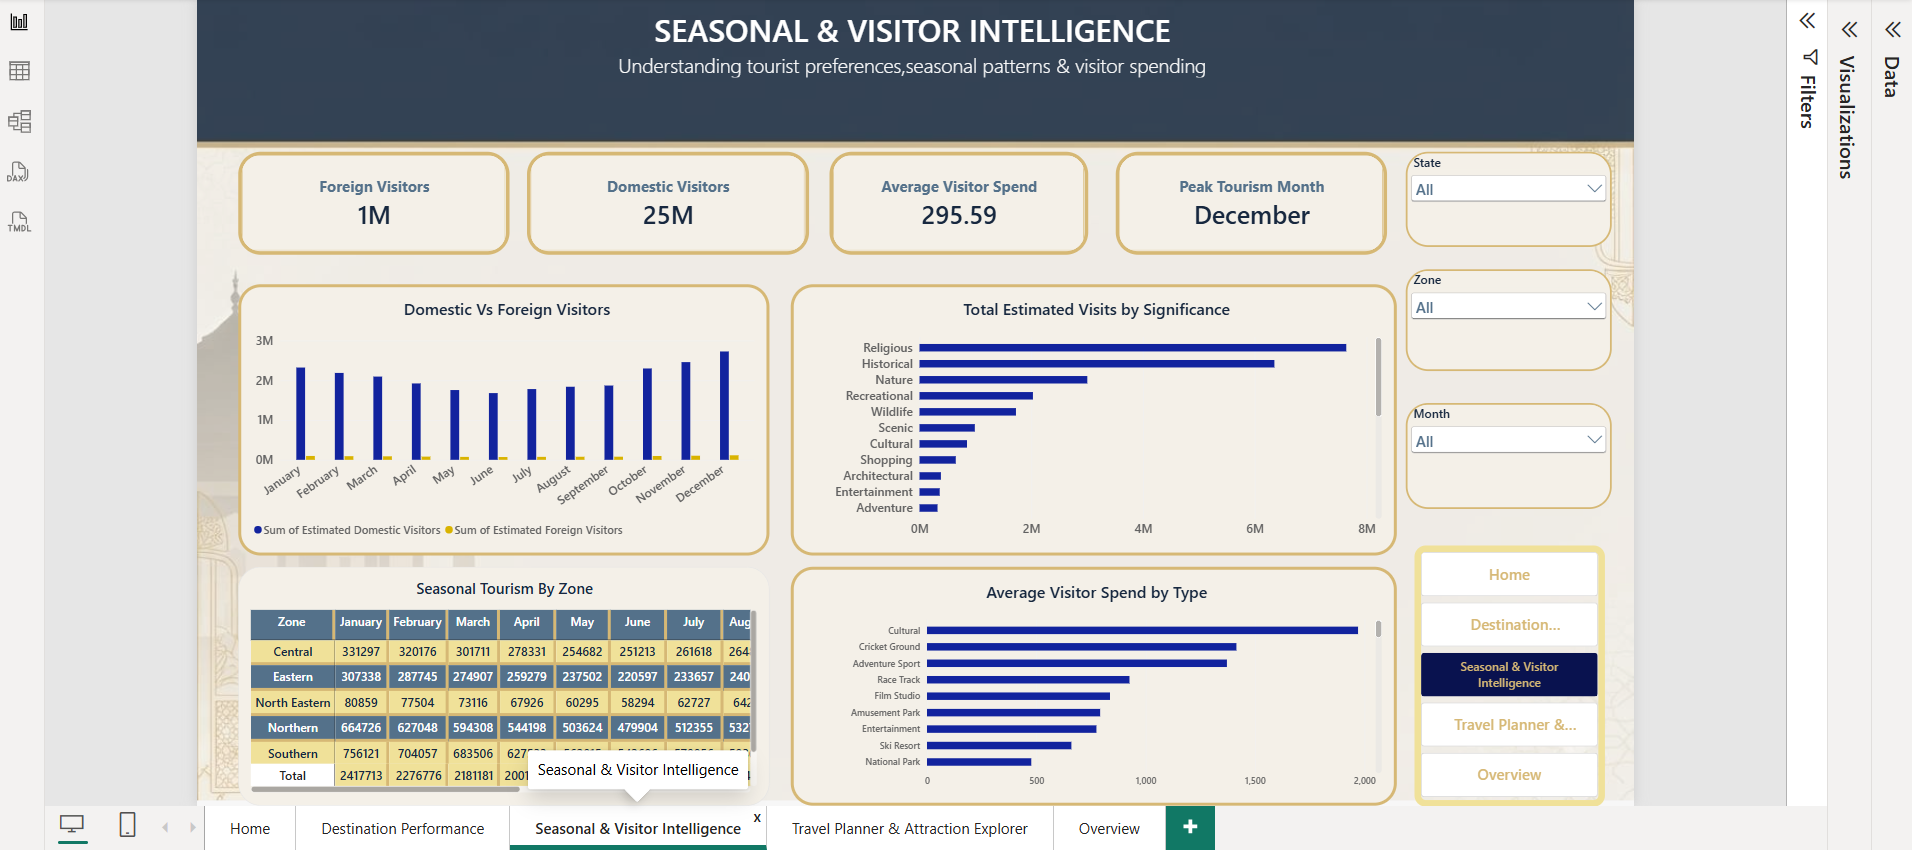

The page's visual inventory and layout, read from the dashboard file:
{"tool":"powerbi","page":{"name":"Seasonal & Visitor Intelligence ","canvas":[1920,1080],"ordinal":2},"visuals":[{"type":"textbox","box":[148,0,1742,220],"z":0},{"type":"textbox","title":"SEASONAL & VISITOR INTELLIGENCE","box":[22,14,1868,146],"z":1},{"type":"cardVisual","fields":{"Data":["Sum(Top_Indian_Places.Estimated Domestic Visitors)"]},"box":[441.3,205.8,376.7,137.8],"z":2},{"type":"cardVisual","fields":{"Data":["Sum(Top_Indian_Places.Estimated Foreign Visitors)"]},"box":[55.8,205.8,362.8,137.8],"z":3},{"type":"cardVisual","fields":{"Data":["Top_Indian_Places.Average Visitor Spend"]},"box":[844.2,205.8,345.3,137.8],"z":5},{"type":"cardVisual","fields":{"Data":["Top_Indian_Places.Peak Tourism Month"]},"box":[1227.9,205.8,362.8,137.8],"z":6},{"type":"clusteredColumnChart","title":"Domestic Vs Foreign Visitors","fields":{"Category":["Top_Indian_Places.Month"],"Y":["Sum(Top_Indian_Places.Estimated Domestic Visitors)","Sum(Top_Indian_Places.Estimated Foreign Visitors)"]},"box":[55.8,382,709.9,362.8],"z":7},{"type":"pivotTable","title":"Seasonal  Tourism By Zone","fields":{"Columns":["Top_Indian_Places.Month"],"Rows":["Top_Indian_Places.Zone"],"Values":["Top_Indian_Places.Total Estimated Visits"]},"box":[55.8,760.5,709.9,319.2],"z":8},{"type":"clusteredBarChart","fields":{"Category":["Top_Indian_Places.Significance"],"Y":["Top_Indian_Places.Total Estimated Visits"]},"box":[793.6,382,809.3,362.8],"z":9},{"type":"clusteredBarChart","fields":{"Category":["Top_Indian_Places.Type"],"Y":["Top_Indian_Places.Average Visitor Spend"]},"box":[793.6,760.5,809.3,319.2],"z":10},{"type":"slicer","fields":{"Values":["Top_Indian_Places.Zone"]},"box":[1615.1,362.8,275.6,136],"z":11},{"type":"slicer","fields":{"Values":["Top_Indian_Places.State"]},"box":[1615.1,205.8,275.6,127.3],"z":12},{"type":"slicer","fields":{"Values":["Top_Indian_Places.Month"]},"box":[1615.1,540.7,275.6,141.3],"z":13},{"type":"pageNavigator","box":[1625.6,730.8,254.7,348.8],"z":14}]}

Visuals, with their boxes on the page's 1920x1080 design canvas (x1, y1, x2, y2). These are canvas units, not pixel positions in the 1912x850 screenshot, which may show the page scaled, cropped or inside an application window:
textbox: [148,0,1890,220]
"SEASONAL & VISITOR INTELLIGENCE" textbox: [22,14,1890,160]
cardVisual - Sum(Top_Indian_Places.Estimated Domestic Visitors): [441,206,818,344]
cardVisual - Sum(Top_Indian_Places.Estimated Foreign Visitors): [56,206,419,344]
cardVisual - Top_Indian_Places.Average Visitor Spend: [844,206,1190,344]
cardVisual - Top_Indian_Places.Peak Tourism Month: [1228,206,1591,344]
"Domestic Vs Foreign Visitors" clusteredColumnChart: [56,382,766,745]
"Seasonal  Tourism By Zone" pivotTable: [56,760,766,1080]
clusteredBarChart - Top_Indian_Places.Significance x Top_Indian_Places.Total Estimated Visits: [794,382,1603,745]
clusteredBarChart - Top_Indian_Places.Type x Top_Indian_Places.Average Visitor Spend: [794,760,1603,1080]
slicer - Top_Indian_Places.Zone: [1615,363,1891,499]
slicer - Top_Indian_Places.State: [1615,206,1891,333]
slicer - Top_Indian_Places.Month: [1615,541,1891,682]
pageNavigator: [1626,731,1880,1080]
